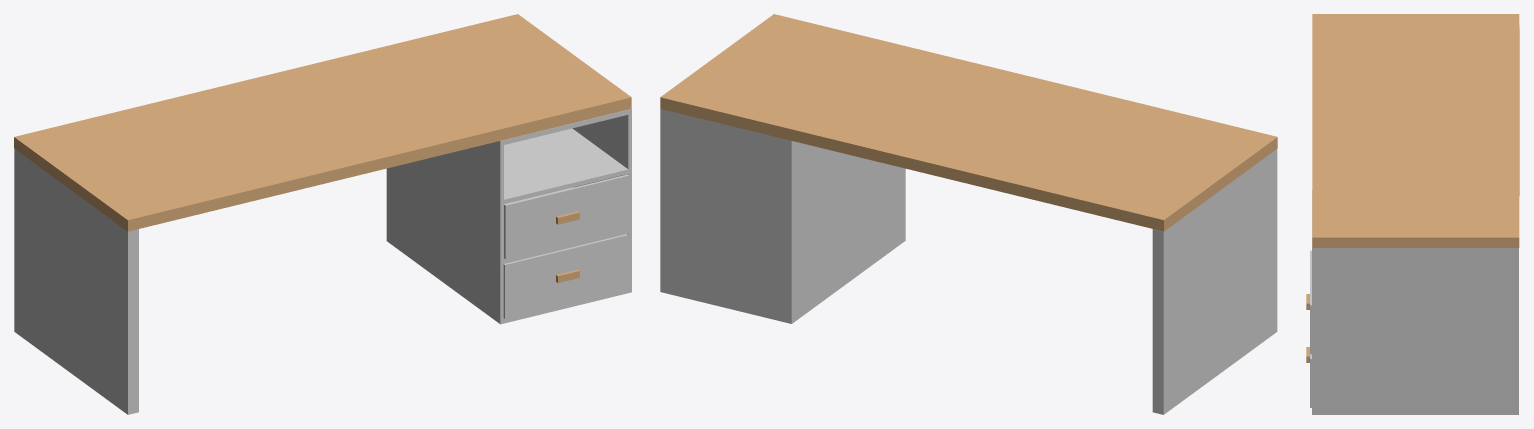
3 views of the same model, side by side, from view 1: azimuth 30°, elevation 25°; view 2: azimuth 150°, elevation 25°; view 3: azimuth 270°, elevation 25° (orthographic). The views are drawn at different scales.
Parts seen in each view (by area): view 1: desk plate, Cube.002, Cube.003, Cube.004, Cube.011; view 2: desk plate, Cube.002, Cube.003; view 3: desk plate, Cube.002, Cube.004.
Boxes of the visible parts, bbox=[...] form: desk plate: bbox=[14, 14, 631, 231]; Cube.002: bbox=[386, 109, 631, 324]; Cube.003: bbox=[14, 149, 138, 414]; Cube.004: bbox=[504, 174, 628, 259]; Cube.011: bbox=[503, 234, 628, 318]; desk plate: bbox=[660, 14, 1277, 231]; Cube.002: bbox=[660, 109, 905, 323]; Cube.003: bbox=[1152, 149, 1277, 414]; desk plate: bbox=[1312, 14, 1519, 247]; Cube.002: bbox=[1312, 190, 1518, 414]; Cube.004: bbox=[1310, 250, 1311, 354].
Bounding box in the file's own units: 2.3 × 0.8502 × 0.9261.
